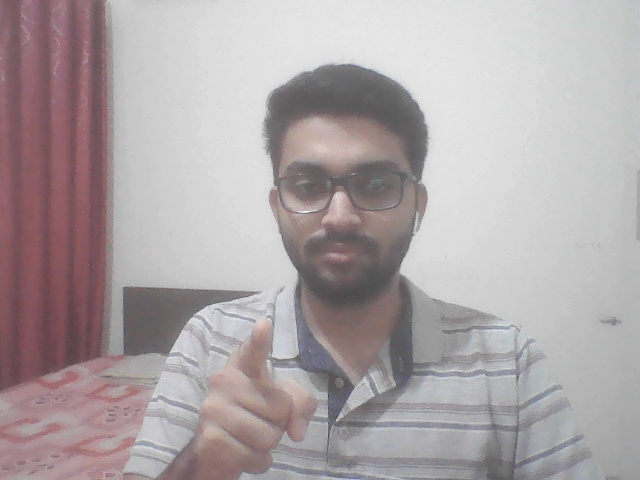you: (157, 296, 355, 478)
